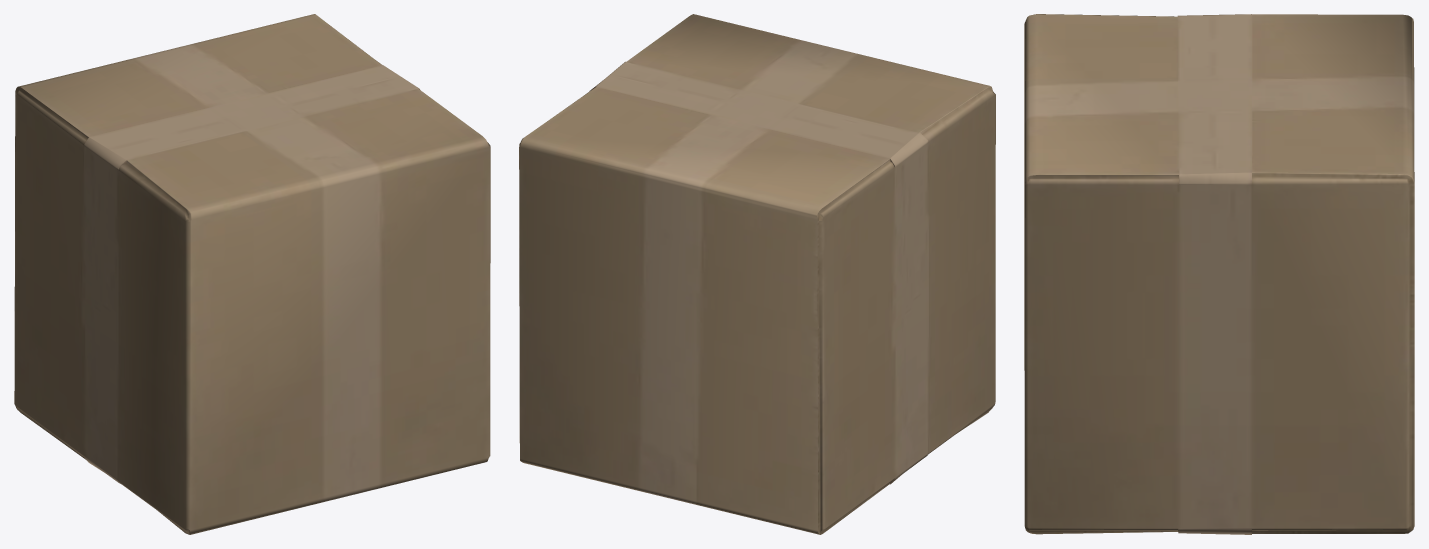
File: carton_b.glb
3 renders of one model, left to right at view 1: azimuth 30°, elevation 25°; view 2: azimuth 150°, elevation 25°; view 3: azimuth 270°, elevation 25°, orthographic. The views are drawn at different scales.
Visible parts, largest first — view 1: body; view 2: body; view 3: body.
Part boxes in pixels (<box>): body: <box>14,14,490,534</box>; body: <box>519,14,995,534</box>; body: <box>1024,14,1414,534</box>.
Size of the model in its own units: 0.5101 by 0.5207 by 0.5097.
Materials: 1 (1 with a texture image).
